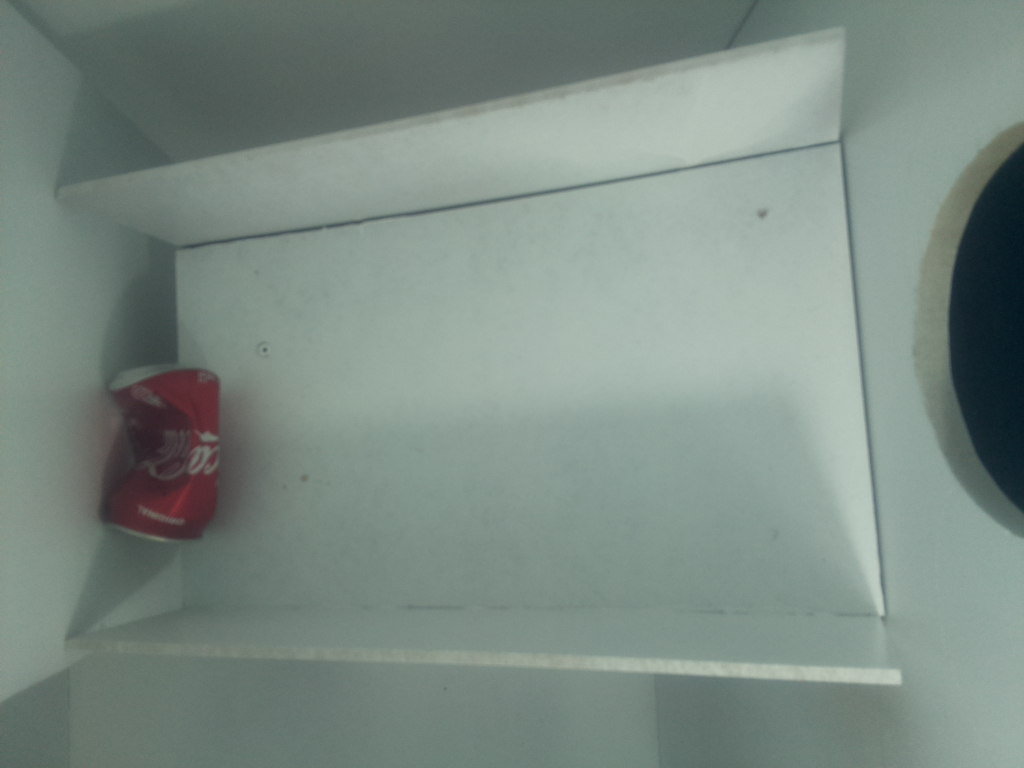kaleng: (102, 364, 225, 543)
